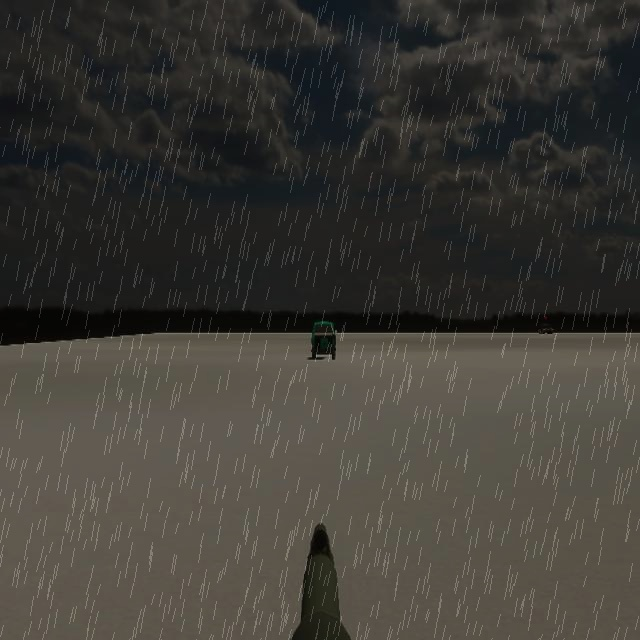green_car: (306, 320, 337, 361)
